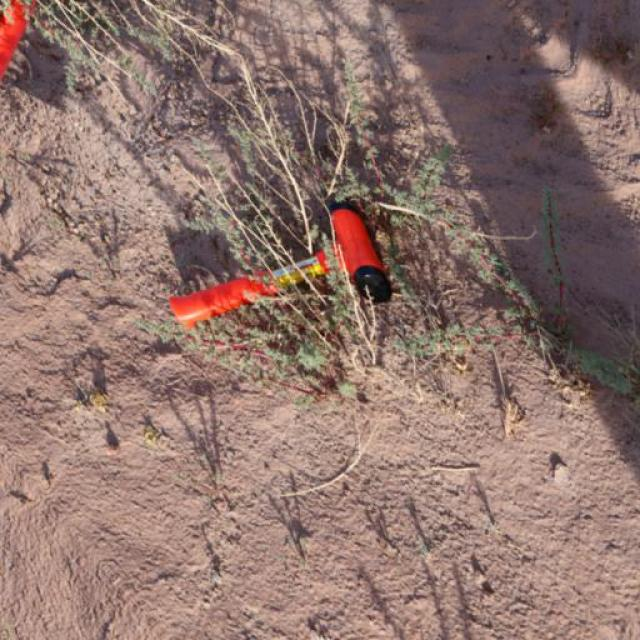mallet: (166, 199, 392, 331)
